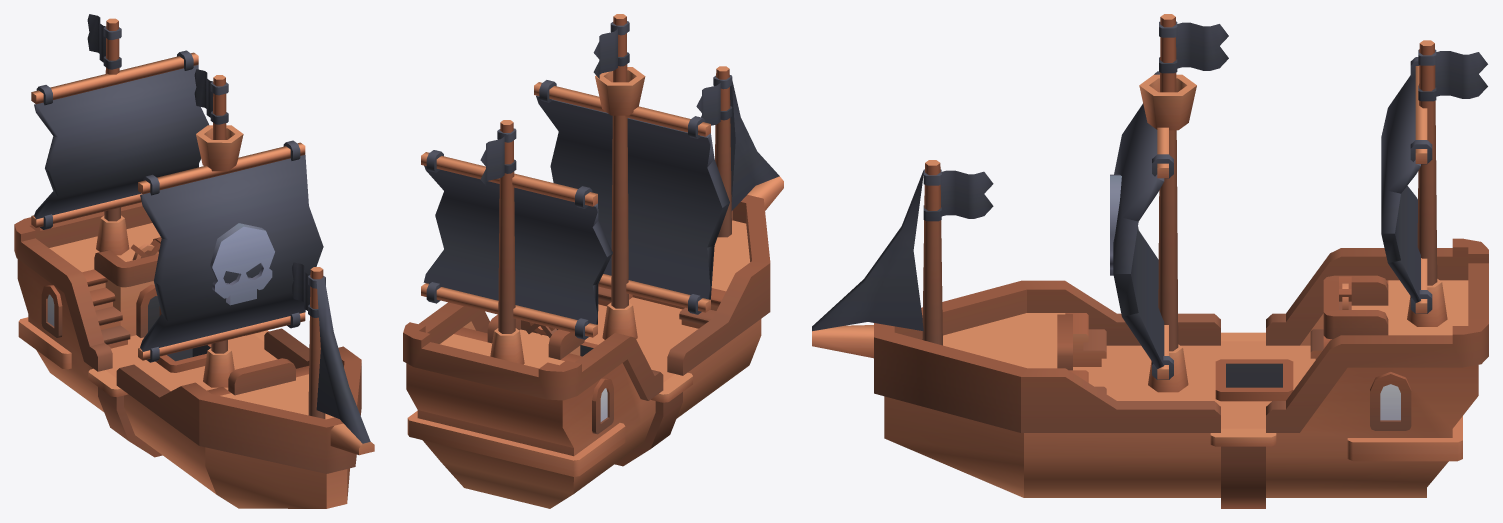
The model's file is ship-pirate-large.glb.
The picture shows the model from 3 angles, left to right: view 1: azimuth 30°, elevation 25°; view 2: azimuth 150°, elevation 25°; view 3: azimuth 270°, elevation 25°; orthographic projection. The views are drawn at different scales.
Visible parts, largest first — view 1: ship-pirate-large; view 2: ship-pirate-large; view 3: ship-pirate-large.
Part boxes in pixels (left/top/right/bottom): ship-pirate-large: left=14, top=14, right=374, bottom=508; ship-pirate-large: left=403, top=14, right=783, bottom=508; ship-pirate-large: left=812, top=14, right=1488, bottom=508.
Bounding box in the file's own units: 4.8 × 9.96 × 13.1.
Materials: 1 (1 with a texture image).
